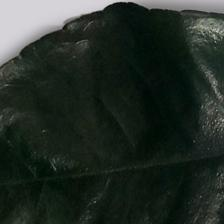healthy: (5, 36, 224, 224)
